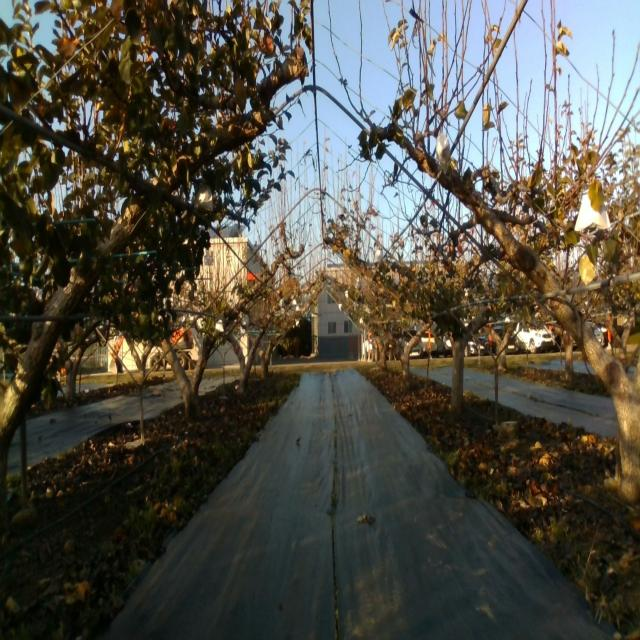pearbags: (574, 192, 610, 234), (194, 178, 213, 214), (436, 132, 450, 176)
